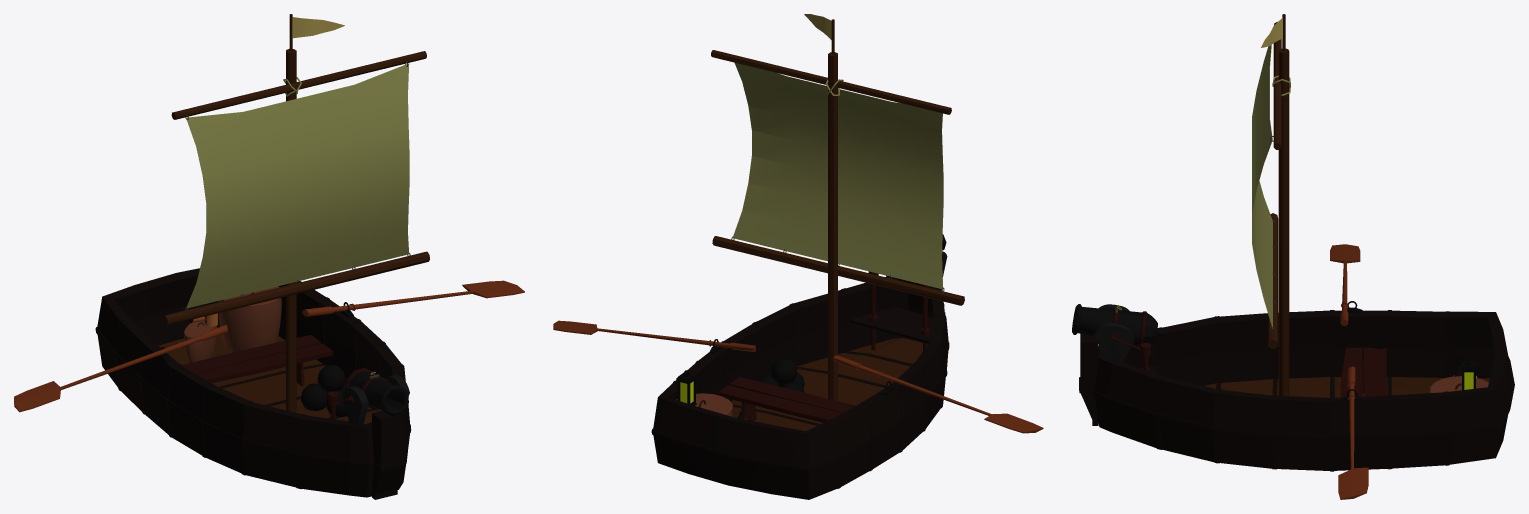
Rendered from Boat_2.fbx.
3 views of the same model, side by side, from view 1: azimuth 30°, elevation 25°; view 2: azimuth 150°, elevation 25°; view 3: azimuth 270°, elevation 25° (orthographic). The views are drawn at different scales.
Parts seen in each view (by area): view 1: Boat, barrel1, row2, row1, CannonBall, Barrel2; view 2: Boat, row2, row1, CannonBall, barrel1, lamp; view 3: Boat, row1, row2, barrel1.
Boxes of the visible parts, left/top/right/bottom form: Boat: left=95, top=14, right=429, bottom=499; barrel1: left=218, top=286, right=281, bottom=351; row2: left=14, top=325, right=227, bottom=412; row1: left=302, top=280, right=524, bottom=316; CannonBall: left=301, top=364, right=347, bottom=416; Barrel2: left=184, top=321, right=217, bottom=363; Boat: left=651, top=14, right=964, bottom=499; row2: left=833, top=355, right=1043, bottom=433; row1: left=553, top=320, right=755, bottom=351; CannonBall: left=758, top=358, right=804, bottom=392; barrel1: left=676, top=393, right=732, bottom=416; lamp: left=676, top=370, right=697, bottom=405; Boat: left=1072, top=14, right=1514, bottom=471; row1: left=1338, top=366, right=1368, bottom=499; row2: left=1330, top=244, right=1360, bottom=325; barrel1: left=1430, top=376, right=1488, bottom=392.
Size of the model in its own units: 109 by 85.44 by 83.27.
